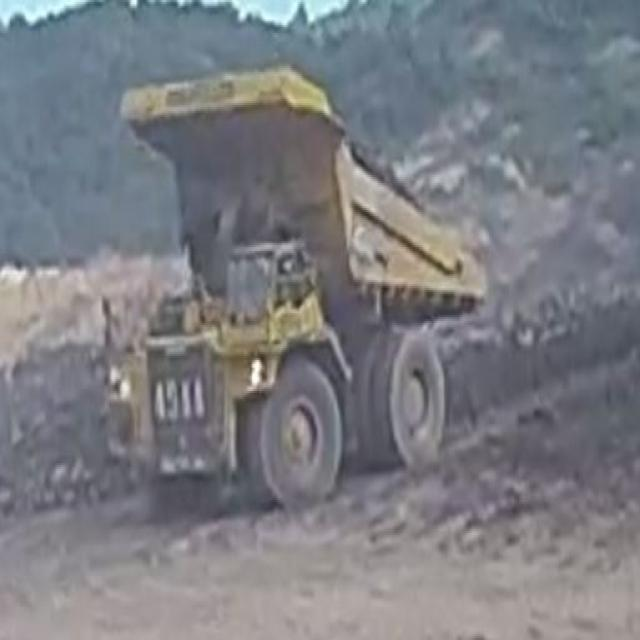dump_truck: (91, 64, 496, 516)
